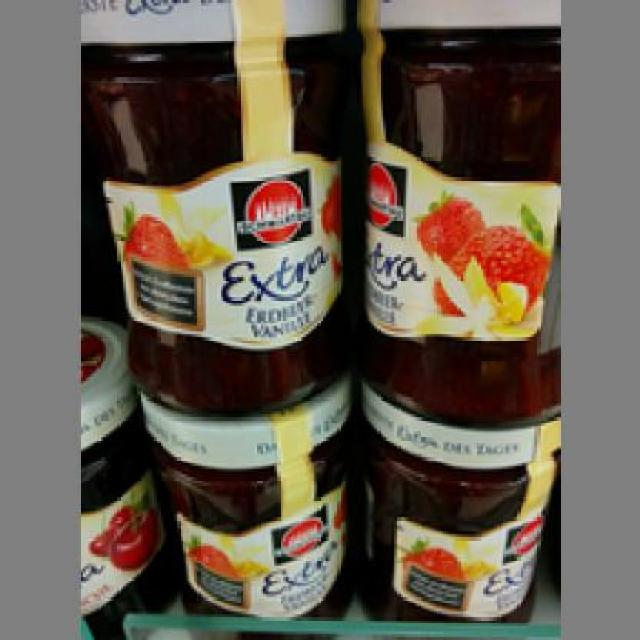Jam: (77, 0, 343, 409), (348, 0, 558, 420), (348, 374, 558, 617), (134, 388, 354, 618)
